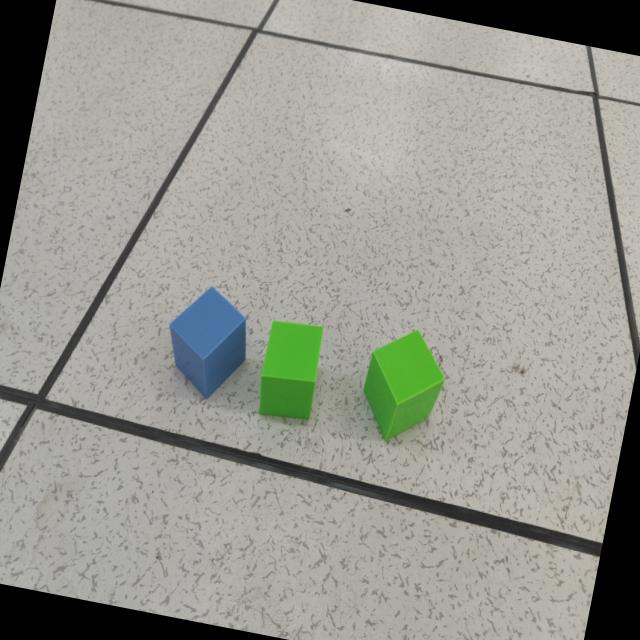blue: (168, 289, 247, 401)
green: (364, 333, 445, 444), (259, 321, 325, 423)
